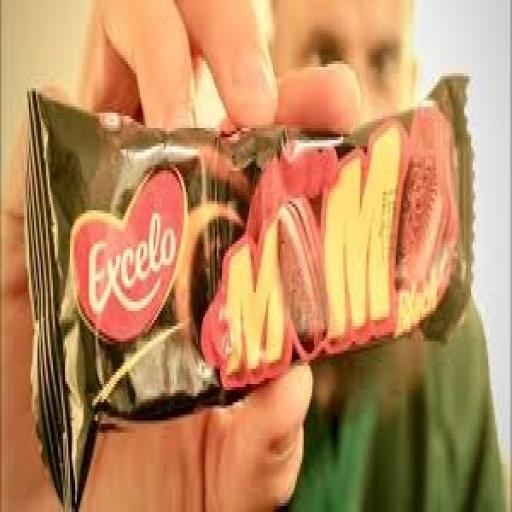MOMO: (21, 40, 495, 443)
